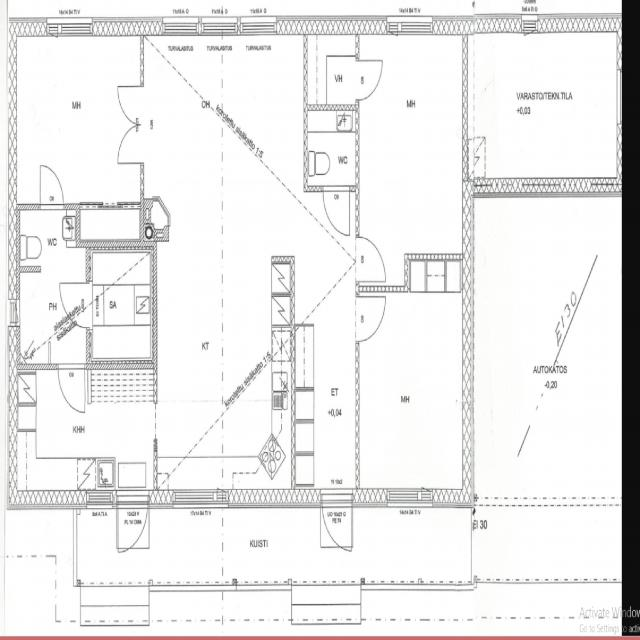door: (117, 487, 148, 560), (321, 488, 352, 560), (59, 280, 90, 326), (355, 297, 386, 341), (355, 237, 386, 280), (58, 362, 84, 412), (324, 185, 349, 236), (355, 58, 385, 100), (140, 86, 168, 126), (140, 126, 168, 165), (40, 164, 63, 210)
